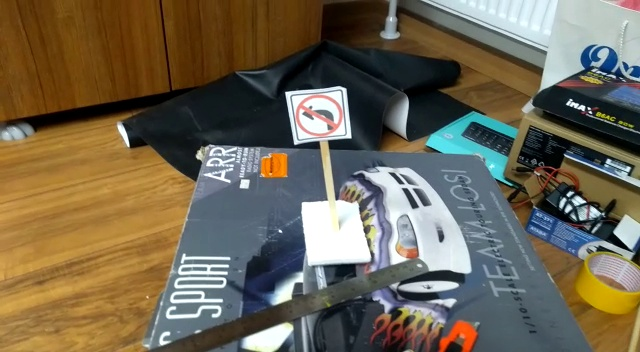sola_donulmez: (292, 90, 347, 138)
